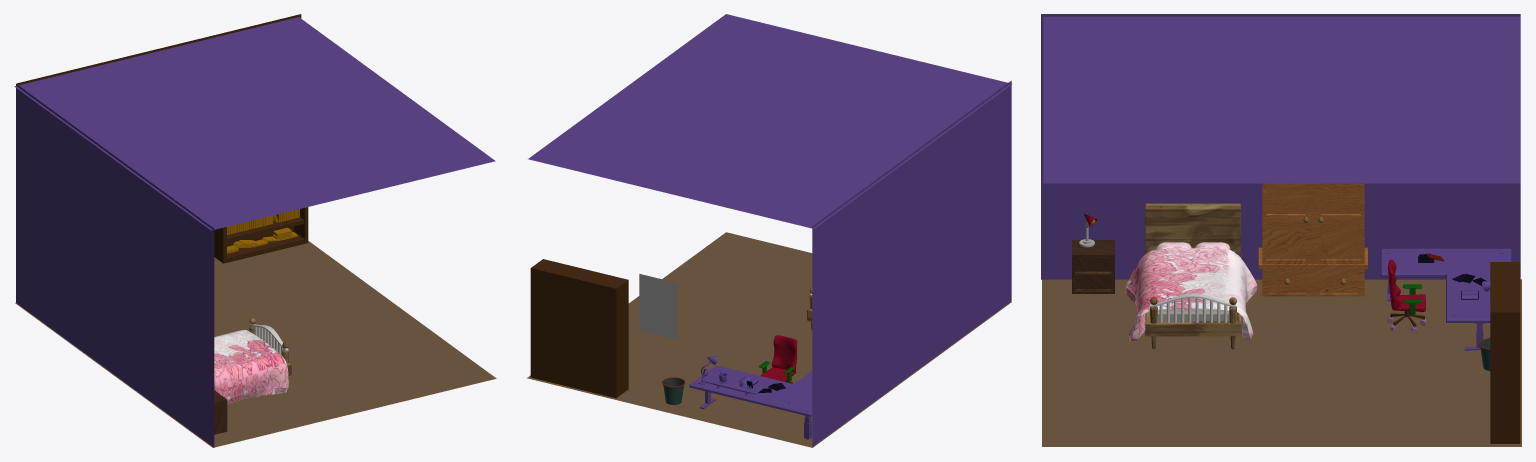
File: room.fbx
3 renders of one model, left to right at view 1: azimuth 30°, elevation 25°; view 2: azimuth 150°, elevation 25°; view 3: azimuth 270°, elevation 25°, orthographic. The views are drawn at different scales.
Visible parts, largest first — view 1: pPlane14, pPlane5, pPlane4, quilt, pCube57, pPlane6, pCube214, pCube61, pCube389; view 2: pPlane14, pPlane5, pPlane4, pCube57, pCube29, pPlane13, pCube211, pCylinder39; view 3: pPlane14, pPlane4, pPlane5, pCube54, pCube214, quilt, pCube57, pCube29, pCube389, Matress.
Part boxes in pixels (x1,y1,x2,y2): pPlane14: (14, 17, 495, 230); pPlane5: (16, 84, 214, 447); pPlane4: (15, 241, 496, 447); quilt: (214, 330, 288, 404); pCube57: (214, 207, 308, 263); pPlane6: (16, 14, 301, 85); pCube214: (249, 318, 291, 375); pCube61: (227, 217, 304, 242); pCube389: (214, 390, 227, 434); pPlane14: (528, 14, 1012, 228); pPlane5: (812, 80, 1011, 446); pPlane4: (527, 232, 1011, 447); pCube57: (530, 259, 628, 398); pCube29: (689, 365, 812, 416); pPlane13: (639, 274, 677, 339); pCube211: (771, 335, 797, 373); pCylinder39: (663, 378, 684, 404); pPlane14: (1043, 16, 1520, 183); pPlane4: (1042, 279, 1521, 446); pPlane5: (1041, 14, 1520, 279); pCube54: (1258, 183, 1367, 296); pCube214: (1145, 203, 1241, 349); quilt: (1125, 247, 1257, 341); pCube57: (1490, 262, 1520, 443); pCube29: (1380, 248, 1511, 322); pCube389: (1072, 240, 1114, 293); Matress: (1157, 251, 1235, 320).
Size of the model in its own units: 55.82 by 40.91 by 66.82.
